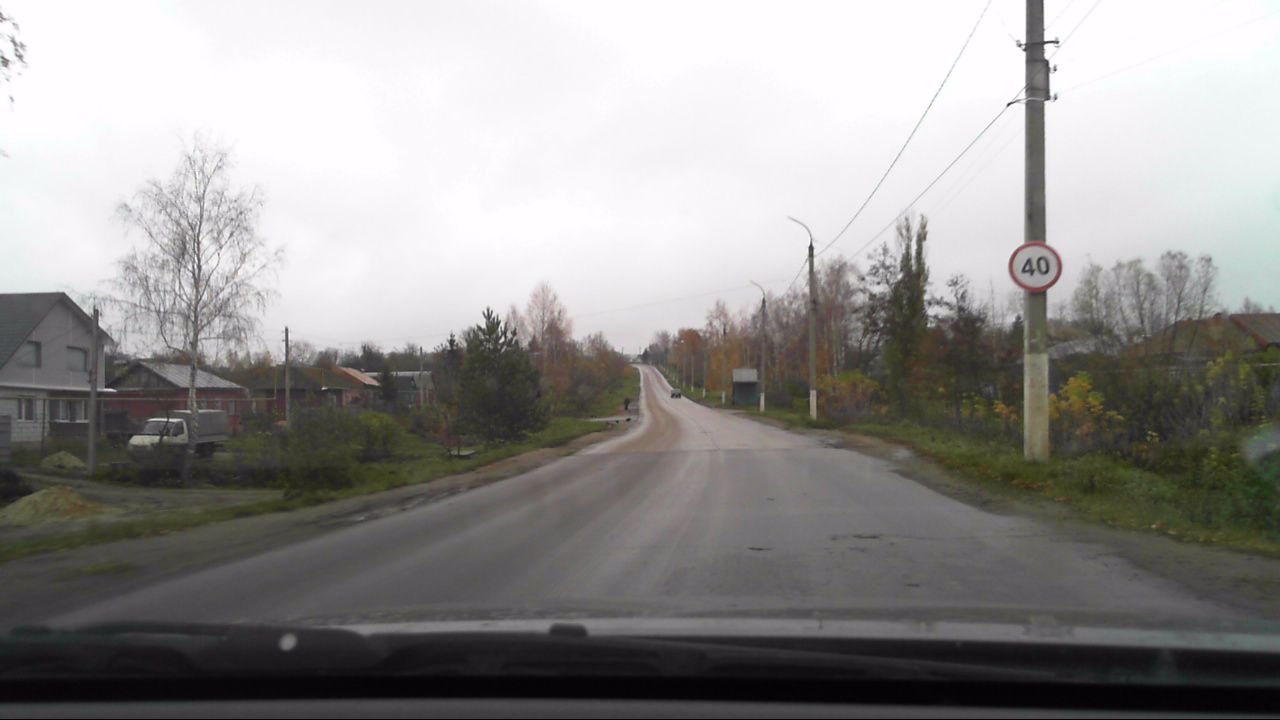speed_warning_40: (1006, 241, 1064, 294)
